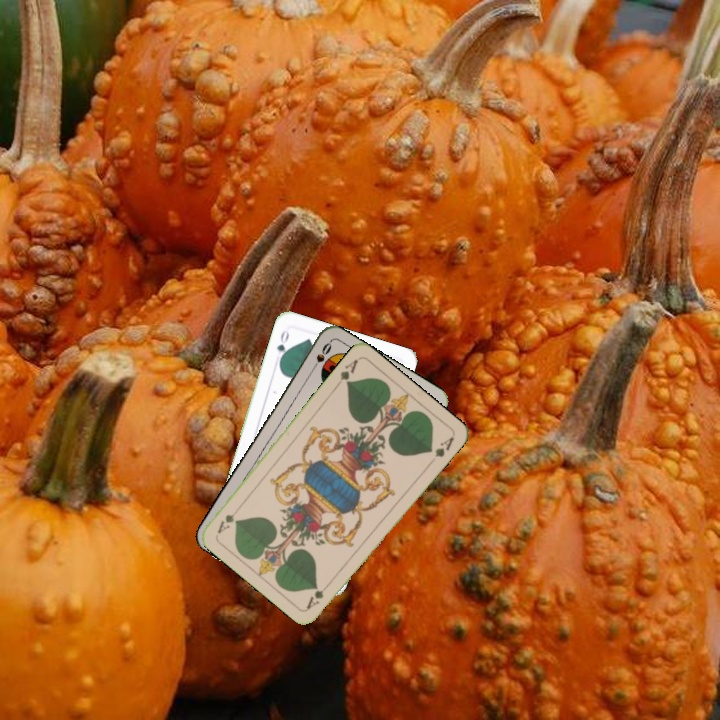GA: (302, 578, 334, 612), (332, 355, 361, 390)
GO: (273, 326, 292, 366)
SO: (306, 338, 334, 375)
